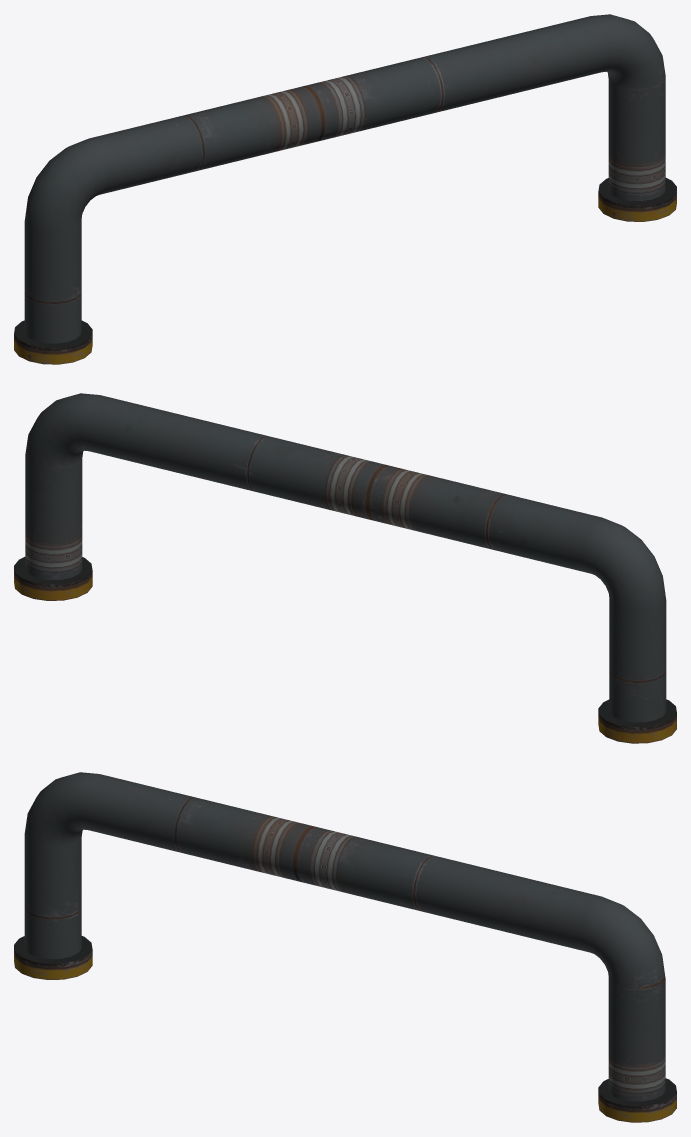
File: Wall3_Pipe1_L0.fbx
3 views of the same model, one above another, from view 1: azimuth 30°, elevation 25°; view 2: azimuth 150°, elevation 25°; view 3: azimuth 330°, elevation 25° (orthographic).
Parts seen in each view (by area): view 1: Wall3_Pipe1_L0; view 2: Wall3_Pipe1_L0; view 3: Wall3_Pipe1_L0.
Boxes of the visible parts, bbox=[...] form: Wall3_Pipe1_L0: bbox=[14, 14, 676, 364]; Wall3_Pipe1_L0: bbox=[14, 393, 676, 743]; Wall3_Pipe1_L0: bbox=[14, 772, 676, 1122].
Bounding box in the file's own units: 327 × 94.42 × 34.33.
